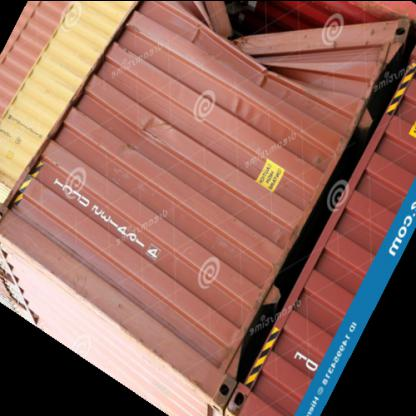Damage: (180, 5, 388, 82)
